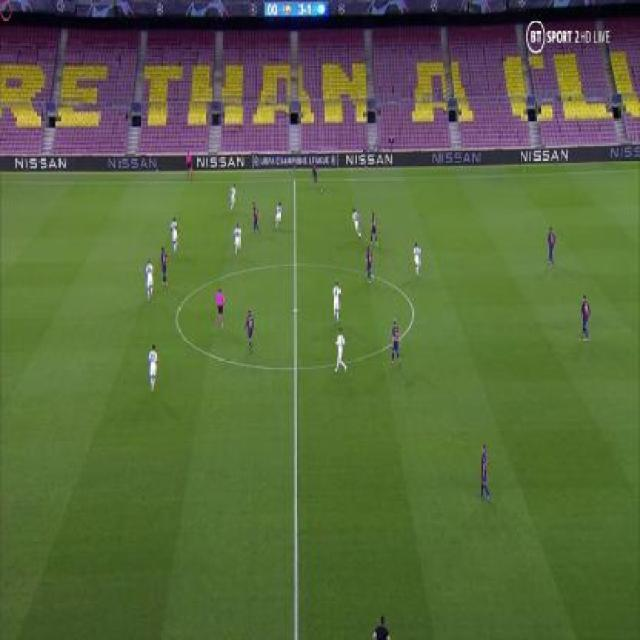ball: (319, 187, 324, 195)
player: (477, 442, 493, 504), (332, 324, 348, 377), (146, 340, 160, 394), (578, 292, 592, 343), (242, 307, 256, 355), (330, 276, 343, 327), (389, 316, 402, 367), (143, 253, 156, 302), (214, 283, 227, 331), (545, 224, 558, 269), (168, 212, 181, 257), (159, 243, 170, 289), (350, 205, 363, 242), (364, 243, 375, 285), (232, 218, 243, 257), (412, 238, 423, 277), (272, 198, 283, 231), (369, 210, 378, 249), (251, 199, 260, 236), (228, 179, 237, 213), (185, 148, 194, 181), (311, 160, 319, 189)
